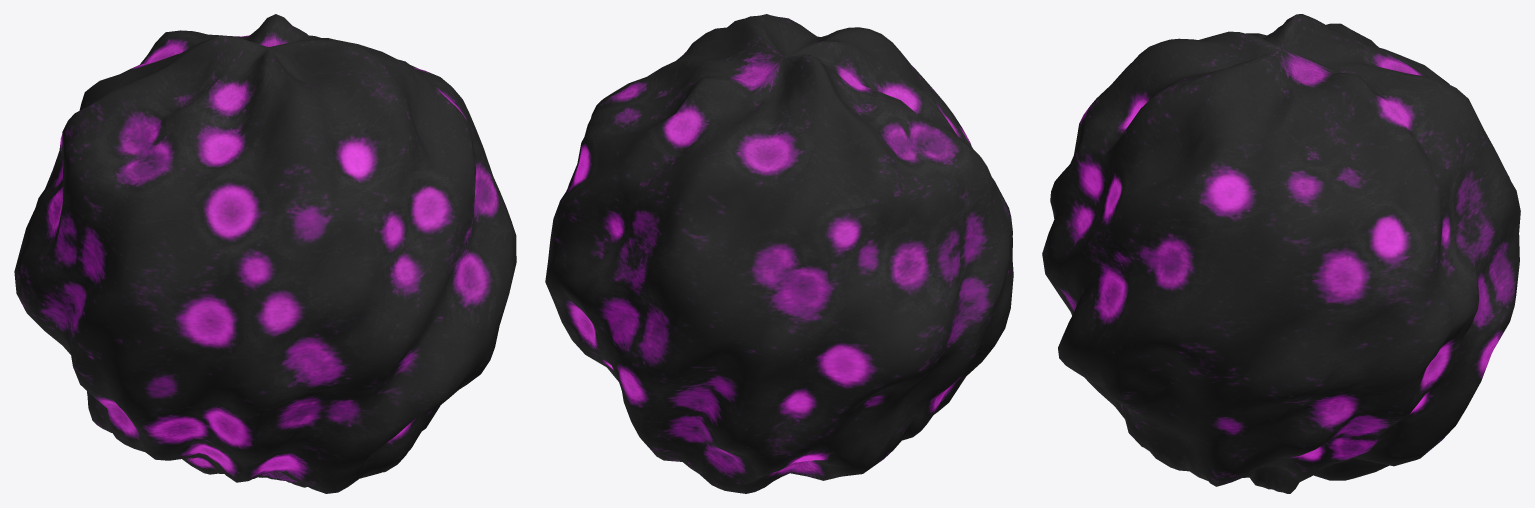
Rendered from asteroid2.glb.
3 views of the same model, side by side, from view 1: azimuth 30°, elevation 25°; view 2: azimuth 150°, elevation 25°; view 3: azimuth 270°, elevation 25° (orthographic). The views are drawn at different scales.
Visible parts, largest first — view 1: Asteroid_2_Purple_0; view 2: Asteroid_2_Purple_0; view 3: Asteroid_2_Purple_0.
Boxes of the visible parts, left/top/right/bottom form: Asteroid_2_Purple_0: left=14, top=14, right=516, bottom=493; Asteroid_2_Purple_0: left=545, top=14, right=1013, bottom=493; Asteroid_2_Purple_0: left=1042, top=14, right=1520, bottom=493.
Size of the model in its own units: 9.99 by 10.42 by 10.24.
1 material, 1 textured.
